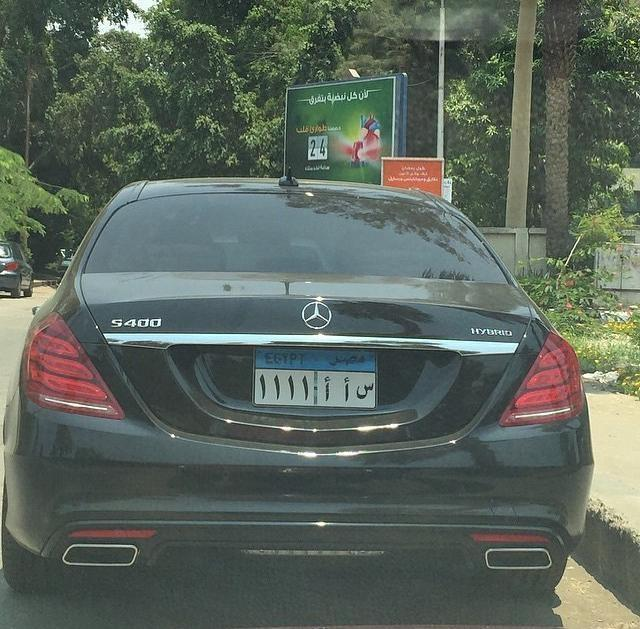1: (287, 374, 297, 402), (273, 373, 282, 401), (258, 372, 267, 400), (301, 374, 310, 401)
License Plate: (248, 345, 383, 412)
Seen: (355, 381, 374, 401)
alef: (343, 375, 351, 404), (324, 375, 331, 405)
car: (9, 175, 592, 596), (0, 243, 37, 295)
